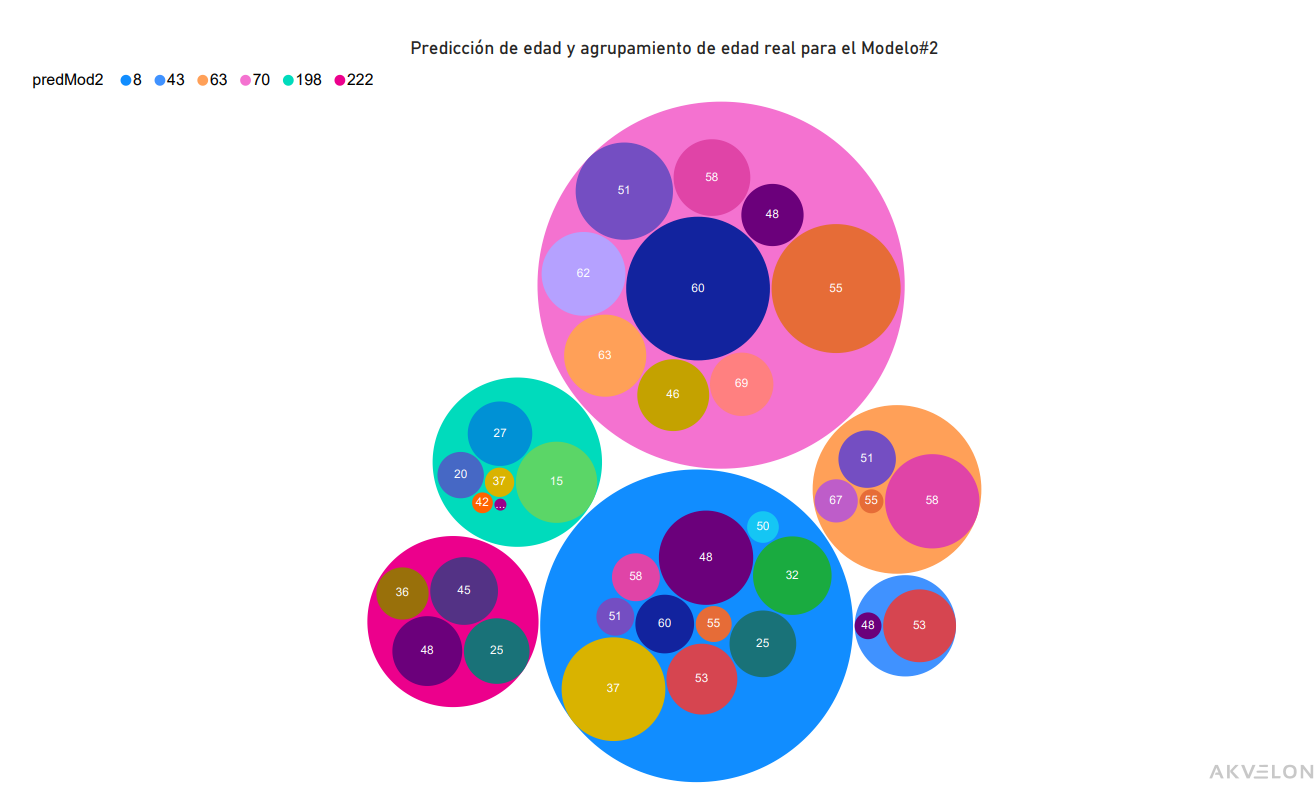

This screenshot's page, from the dashboard's own definition file:
{"tool":"powerbi","page":{"name":"BubbleModel2","canvas":[1280,720],"ordinal":5},"visuals":[{"type":"bubbleChartEEDCDFA388784AEEAB47972BC1626196","title":"Predicción de edad y agrupamiento de edad real para el Modelo#2","fields":{"measure":["Sum(dataModelos (2).Iteracion)"],"grouping":["dataModelos (2).predMod2"],"category":["dataModelos (2).edadMod2"]},"box":[75.6,16.9,1204.4,703.1],"z":1}]}

Visuals, with their boxes on the page's 1280x720 design canvas (x1, y1, x2, y2). These are canvas units, not pixel positions in the 1316x799 screenshot, which may show the page scaled, cropped or inside an application window:
"Predicción de edad y agrupamiento de edad real para el Modelo#2" bubbleChartEEDCDFA388784AEEAB47972BC1626196: bbox(76, 17, 1280, 720)
